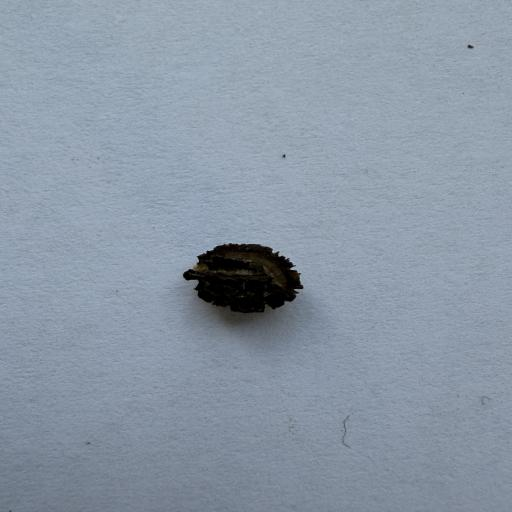papaya_seed: (181, 222, 322, 334)
